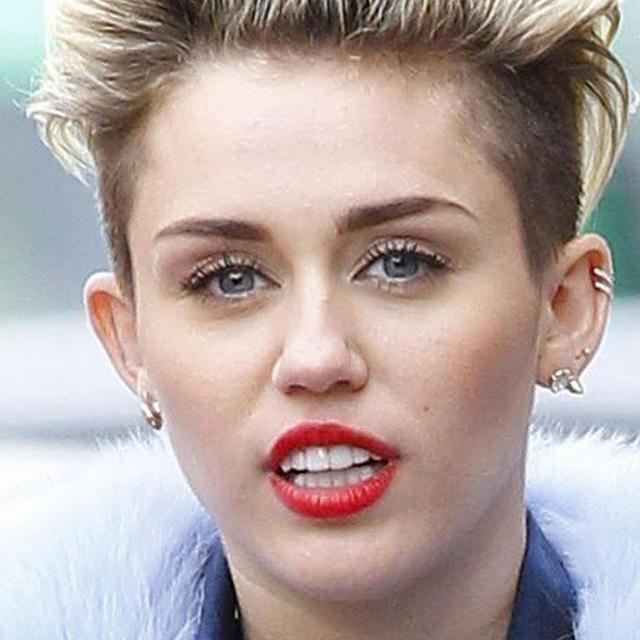surprised: (158, 49, 546, 597)
